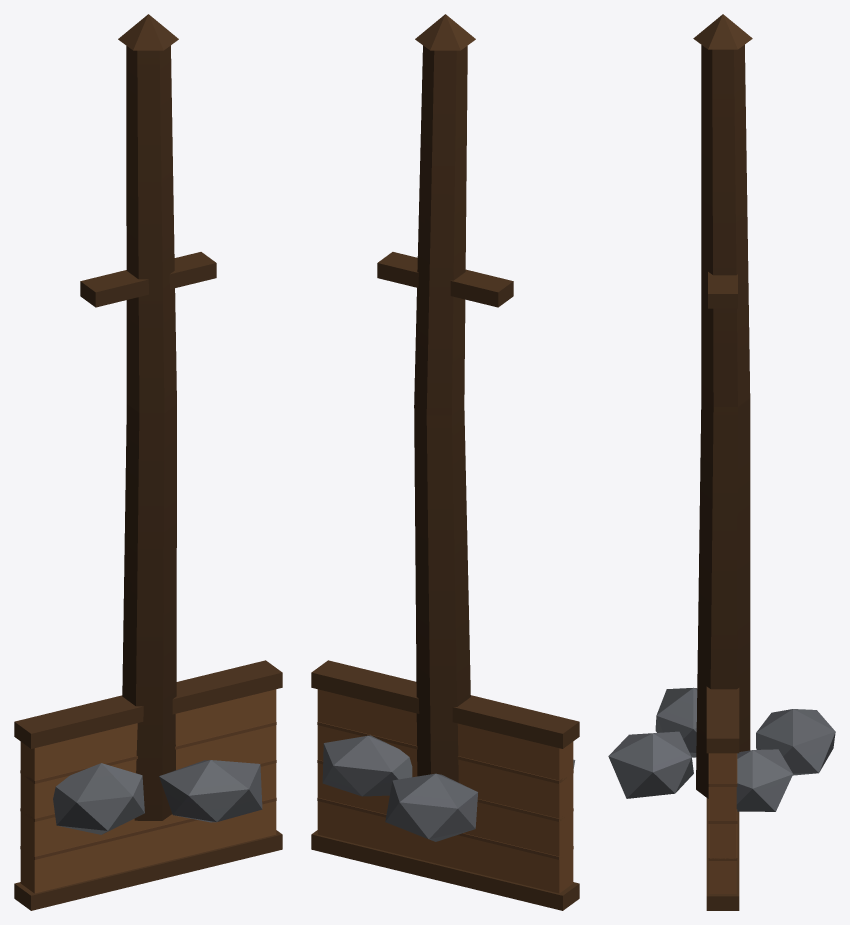
Rendered from signpost.fbx.
3 renders of one model, left to right at view 1: azimuth 30°, elevation 25°; view 2: azimuth 150°, elevation 25°; view 3: azimuth 270°, elevation 25°, orthographic. The views are drawn at different scales.
Parts seen in each view (by area): view 1: signpost_0, signpost_1; view 2: signpost_0, signpost_1; view 3: signpost_0, signpost_1.
Part boxes in pixels (x1=…): signpost_0: x1=53, y1=14, x2=262, y2=834; signpost_1: x1=14, y1=660, x2=282, y2=910; signpost_0: x1=322, y1=14, x2=575, y2=841; signpost_1: x1=311, y1=660, x2=579, y2=910; signpost_0: x1=608, y1=14, x2=835, y2=811; signpost_1: x1=706, y1=686, x2=739, y2=910.
Size of the model in its own units: 1.04 by 3.4 by 0.8367.
